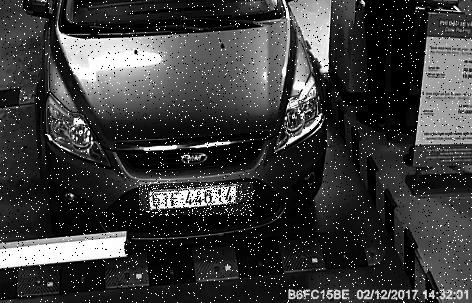License-plate: (141, 184, 256, 218)
